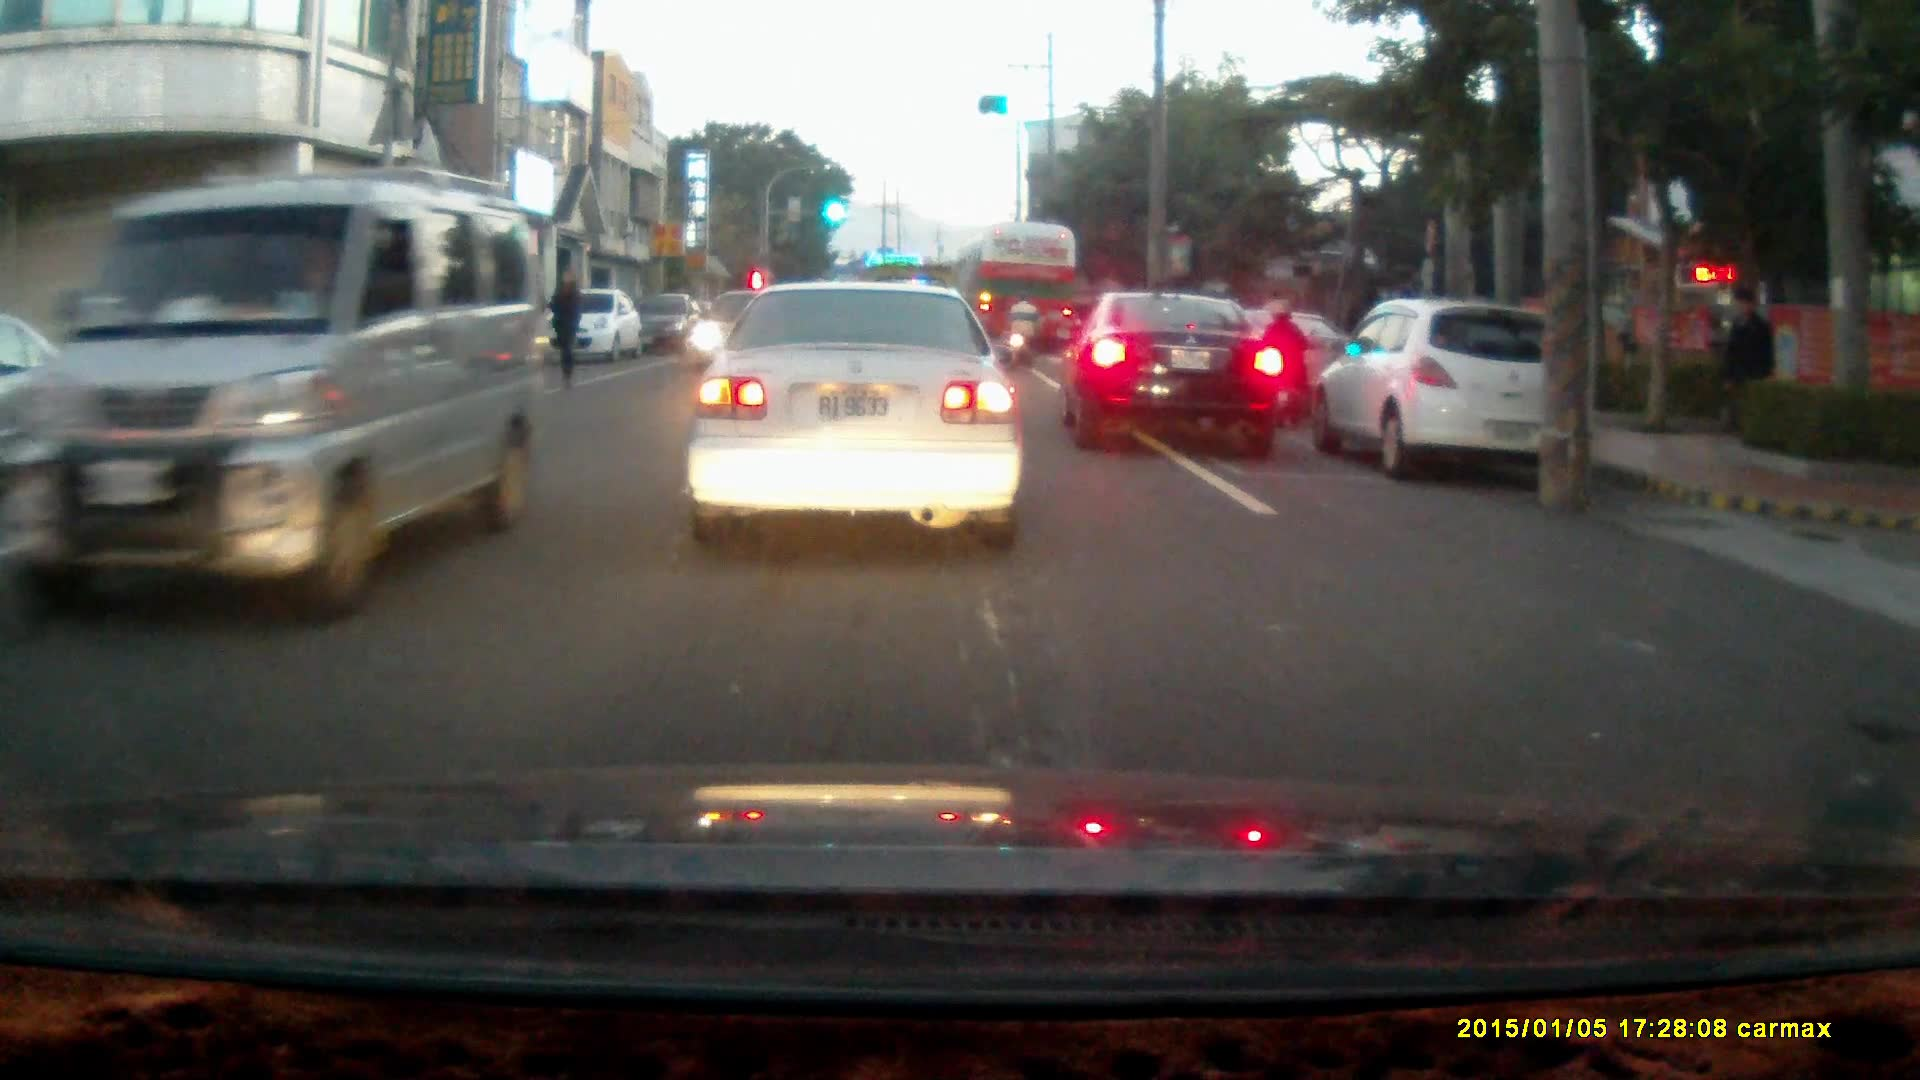pedestrian: (1720, 288, 1778, 449), (546, 263, 582, 392)
rider: (1262, 299, 1317, 434), (1004, 291, 1043, 371)
vehicle: (65, 167, 534, 635), (680, 281, 1028, 556), (1304, 296, 1586, 486), (1060, 293, 1290, 461), (966, 222, 1083, 361), (539, 287, 641, 363)
